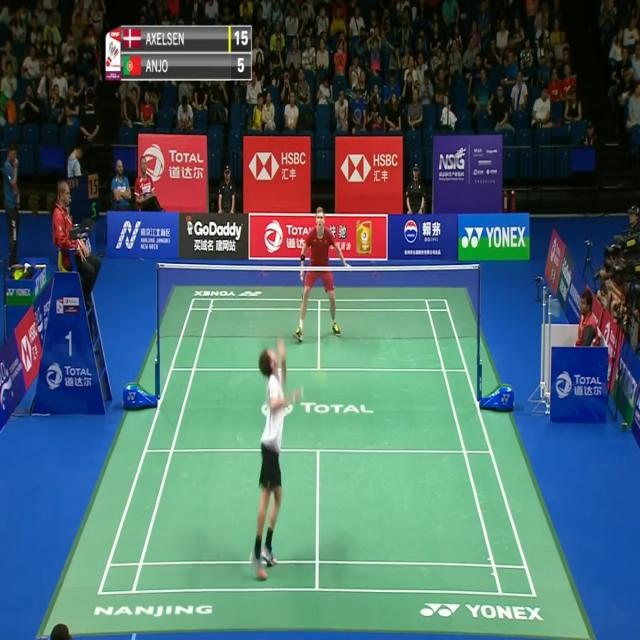Player1: (249, 333, 305, 588)
Player2: (293, 202, 355, 344)
